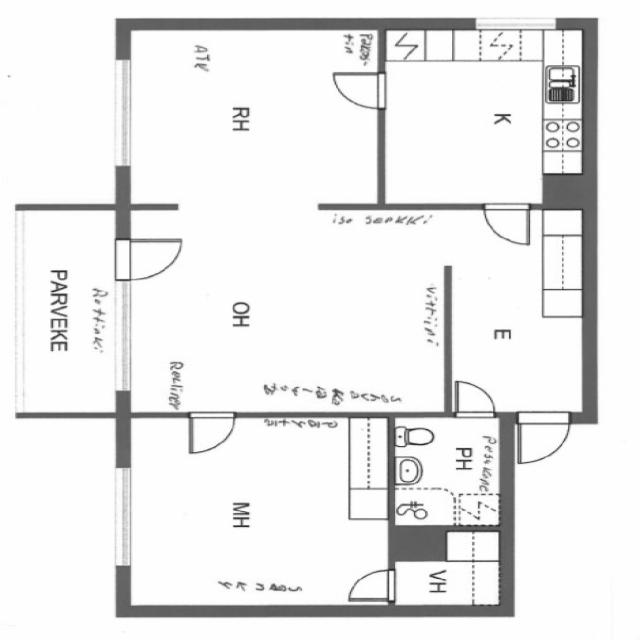door: (512, 408, 576, 467), (112, 235, 185, 282), (479, 200, 534, 250), (327, 70, 389, 110), (184, 411, 237, 456), (447, 377, 501, 419), (344, 566, 396, 602)
window: (102, 53, 138, 171), (106, 462, 138, 570), (109, 281, 138, 398), (470, 13, 563, 33)
zone: (124, 202, 453, 416), (120, 415, 386, 610), (121, 26, 387, 206), (380, 26, 588, 203), (446, 207, 588, 421), (5, 216, 130, 410), (388, 414, 504, 528), (392, 528, 504, 614)
